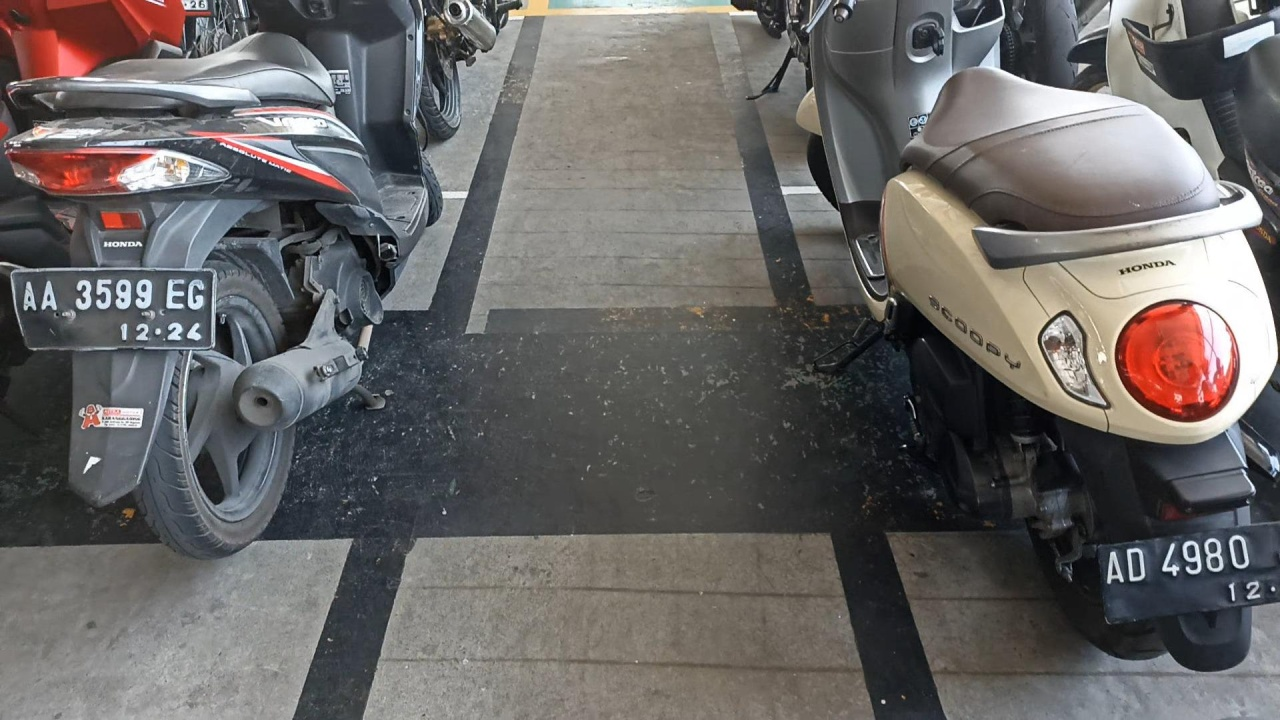plate: (11, 269, 215, 350)
